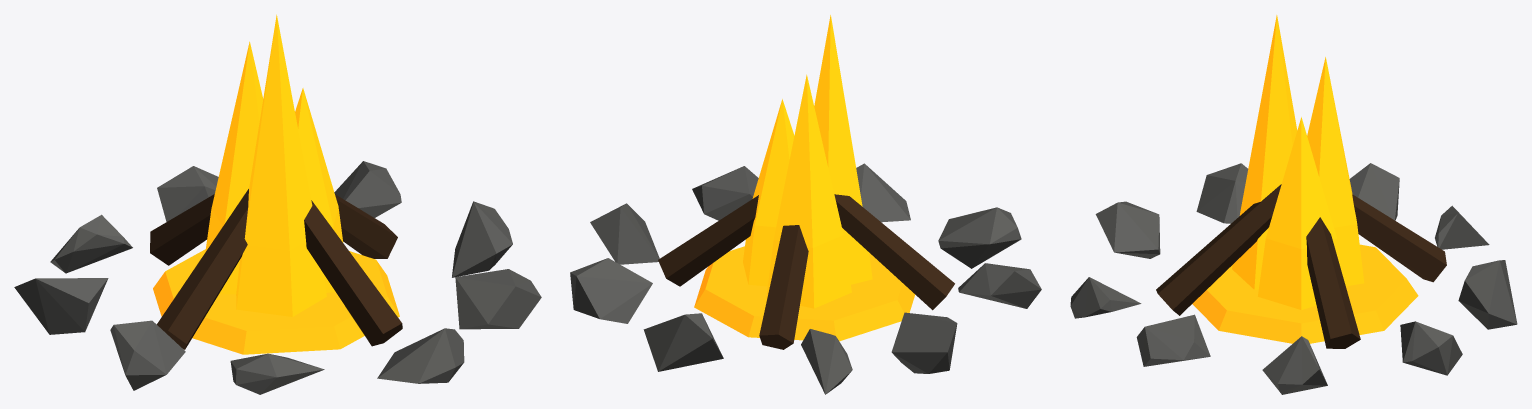
The model's file is hoguera.fbx.
3 views of the same model, side by side, from view 1: azimuth 30°, elevation 25°; view 2: azimuth 150°, elevation 25°; view 3: azimuth 270°, elevation 25° (orthographic). The views are drawn at different scales.
Parts seen in each view (by area): view 1: hoguera; view 2: hoguera; view 3: hoguera.
Part boxes in pixels (x1,y1,x2,y2): hoguera: [14, 14, 541, 394]; hoguera: [570, 15, 1041, 394]; hoguera: [1070, 15, 1517, 394].
Bounding box in the file's own units: 1.99 × 1.35 × 1.91.
